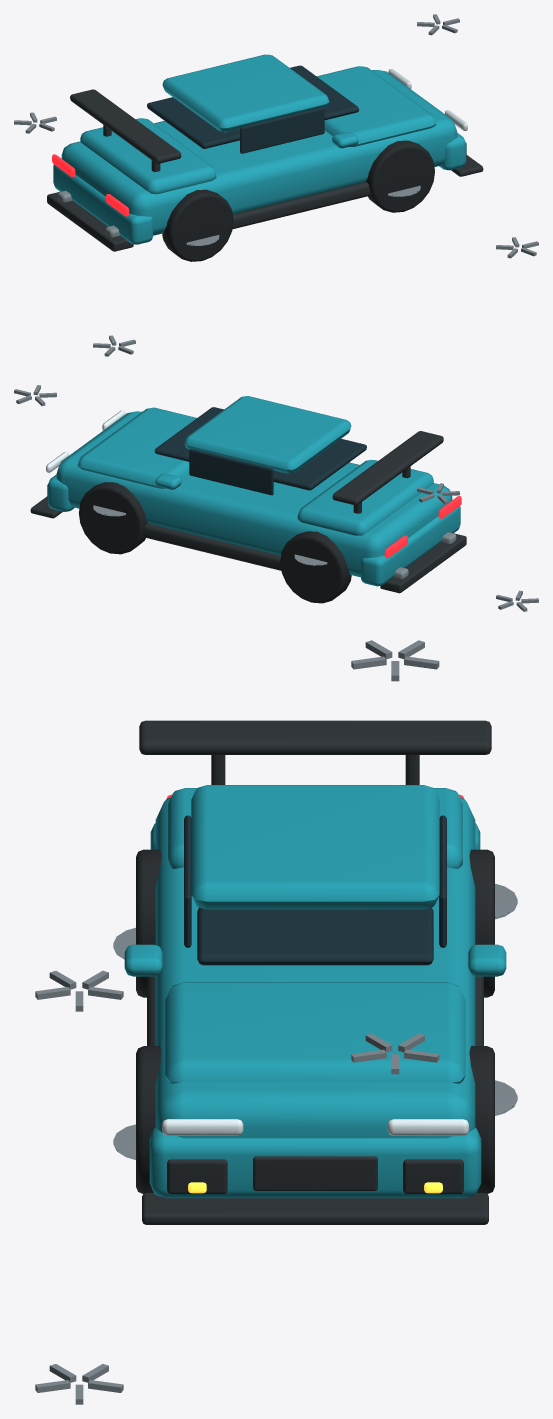
Rendered from OVERSTEER_PlayerCar.fbx.
3 views of the same model, one above another, from view 1: azimuth 30°, elevation 25°; view 2: azimuth 150°, elevation 25°; view 3: azimuth 270°, elevation 25° (orthographic). The views are drawn at different scales.
Parts seen in each view (by area): view 1: Car_Body_Main, Car_Body_Roof, Car_Body_Hood, Car_Body_RearDeck, Wheel_Rear_L, Wheel_Front_L, Car_Rear_Spoiler, Car_Rear_Bumper, Car_Glass_Side_L, Car_SideSkirt_L, Car_Glass_Rear, Car_Rear_Diffuser (+2 smaller); view 2: Car_Body_Main, Car_Body_Roof, Car_Body_Hood, Car_Body_RearDeck, Wheel_Rear_R, Wheel_Front_R, Car_Rear_Spoiler, Car_Rear_Bumper, Car_Glass_Side_R, Car_SideSkirt_R, Car_Glass_Rear, Car_Rear_Diffuser (+4 smaller); view 3: Car_Body_Roof, Car_Body_Main, Car_Body_Hood, Car_Glass_Windshield, Car_Rear_Spoiler, Car_Front_Bumper, Car_Front_Splitter, Car_Front_Grille, Car_Body_RearDeck, Wheel_Front_R, Wheel_Front_L, Wheel_Rear_L (+9 smaller).
Part boxes in pixels (x1,y1,x2,y2): Car_Body_Main: (61,70,457,235); Car_Body_Roof: (162,54,329,132); Car_Body_Hood: (317,66,436,146); Car_Body_RearDeck: (80,118,216,194); Wheel_Rear_L: (162,189,233,261); Wheel_Front_L: (366,140,434,212); Car_Rear_Spoiler: (70,89,181,163); Car_Rear_Bumper: (53,164,152,244); Car_Glass_Side_L: (240,107,324,153); Car_SideSkirt_L: (232,182,370,229); Car_Glass_Rear: (147,97,239,148); Car_Rear_Diffuser: (47,192,133,251); Car_Body_Main: (56,411,452,577); Car_Body_Roof: (184,396,351,473); Car_Body_Hood: (77,407,196,488); Car_Body_RearDeck: (297,459,433,535); Wheel_Rear_R: (280,531,351,603); Wheel_Front_R: (79,482,147,554); Car_Rear_Spoiler: (332,431,443,505); Car_Rear_Bumper: (361,506,460,586); Car_Glass_Side_R: (189,449,273,495); Car_SideSkirt_R: (143,523,281,570); Car_Glass_Rear: (273,438,366,490); Car_Rear_Diffuser: (380,533,466,593); Car_Body_Roof: (191,785,439,909); Car_Body_Main: (155,797,475,1138); Car_Body_Hood: (165,982,465,1083); Car_Glass_Windshield: (197,907,433,965); Car_Rear_Spoiler: (139,720,491,754); Car_Front_Bumper: (149,1127,481,1198); Car_Front_Splitter: (142,1193,488,1224); Car_Front_Grille: (253,1156,377,1190); Car_Body_RearDeck: (168,788,462,869); Wheel_Front_R: (469,1046,494,1193); Wheel_Front_L: (136,1046,161,1193); Wheel_Rear_L: (136,849,161,997).
Bounding box in the file's own units: 5.84 × 2.19 × 2.78.
